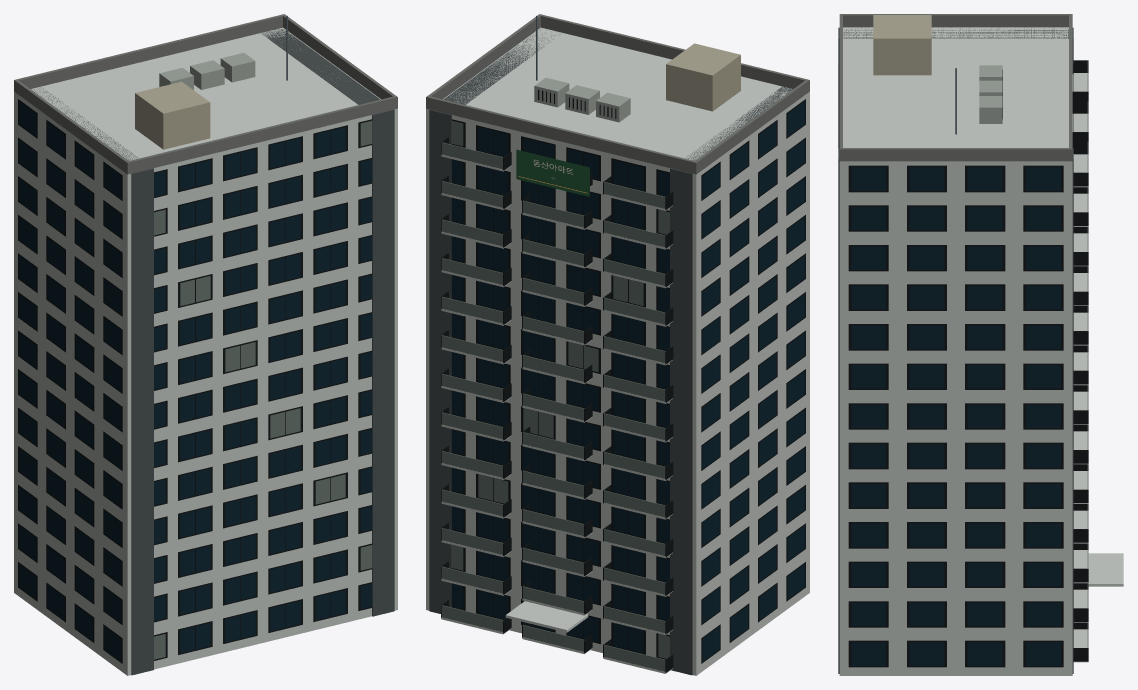
The model's file is apartment_tower.obj.
3 renders of one model, left to right at view 1: azimuth 30°, elevation 25°; view 2: azimuth 150°, elevation 25°; view 3: azimuth 270°, elevation 25°, orthographic. The views are drawn at different scales.
Visible parts, largest first — view 1: Apartment_White, Window_Glass, Dark_Frame, Paver_Accent, Concrete, Window_Light, Warm_Plaster, AC_White; view 2: Apartment_White, Window_Glass, Window_Light, Dark_Frame, Paver_Accent, Concrete, Warm_Plaster, AC_White, Sign_Atlas; view 3: Apartment_White, Window_Glass, Dark_Frame, Concrete, Warm_Plaster, Paver_Accent, AC_White, Window_Light.
Boxes of the visible parts, x1,y1,x2,y2 form: Apartment_White: [14, 27, 397, 675]; Window_Glass: [19, 101, 372, 661]; Dark_Frame: [18, 99, 372, 663]; Paver_Accent: [34, 28, 394, 675]; Concrete: [14, 14, 397, 174]; Window_Light: [154, 120, 372, 659]; Warm_Plaster: [135, 81, 210, 149]; AC_White: [159, 53, 255, 90]; Apartment_White: [426, 27, 809, 675]; Window_Glass: [451, 101, 804, 661]; Window_Light: [441, 120, 669, 671]; Dark_Frame: [441, 89, 805, 672]; Paver_Accent: [429, 28, 792, 675]; Concrete: [426, 14, 809, 174]; Warm_Plaster: [666, 43, 740, 111]; AC_White: [534, 77, 630, 122]; Sign_Atlas: [516, 149, 589, 196]; Apartment_White: [839, 27, 1123, 675]; Window_Glass: [851, 167, 1060, 665]; Dark_Frame: [838, 60, 1088, 667]; Concrete: [839, 14, 1072, 161]; Warm_Plaster: [873, 15, 931, 75]; Paver_Accent: [838, 27, 1073, 673]; AC_White: [979, 65, 1002, 123]; Window_Light: [1087, 61, 1088, 647].
Size of the model in its own units: 22.09 by 44 by 19.57.
